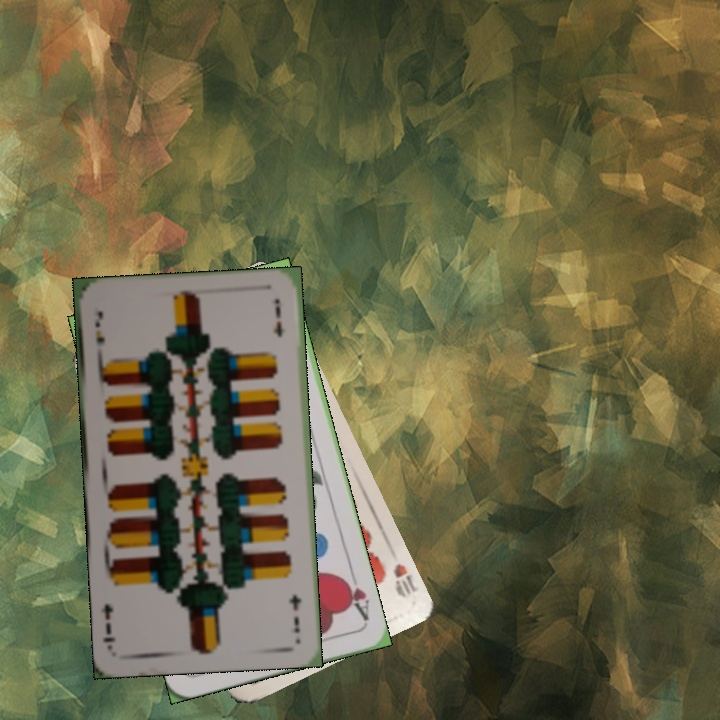E7: (91, 307, 107, 361), (285, 590, 304, 635)
H10: (389, 559, 421, 601)
HA: (337, 567, 372, 624)
